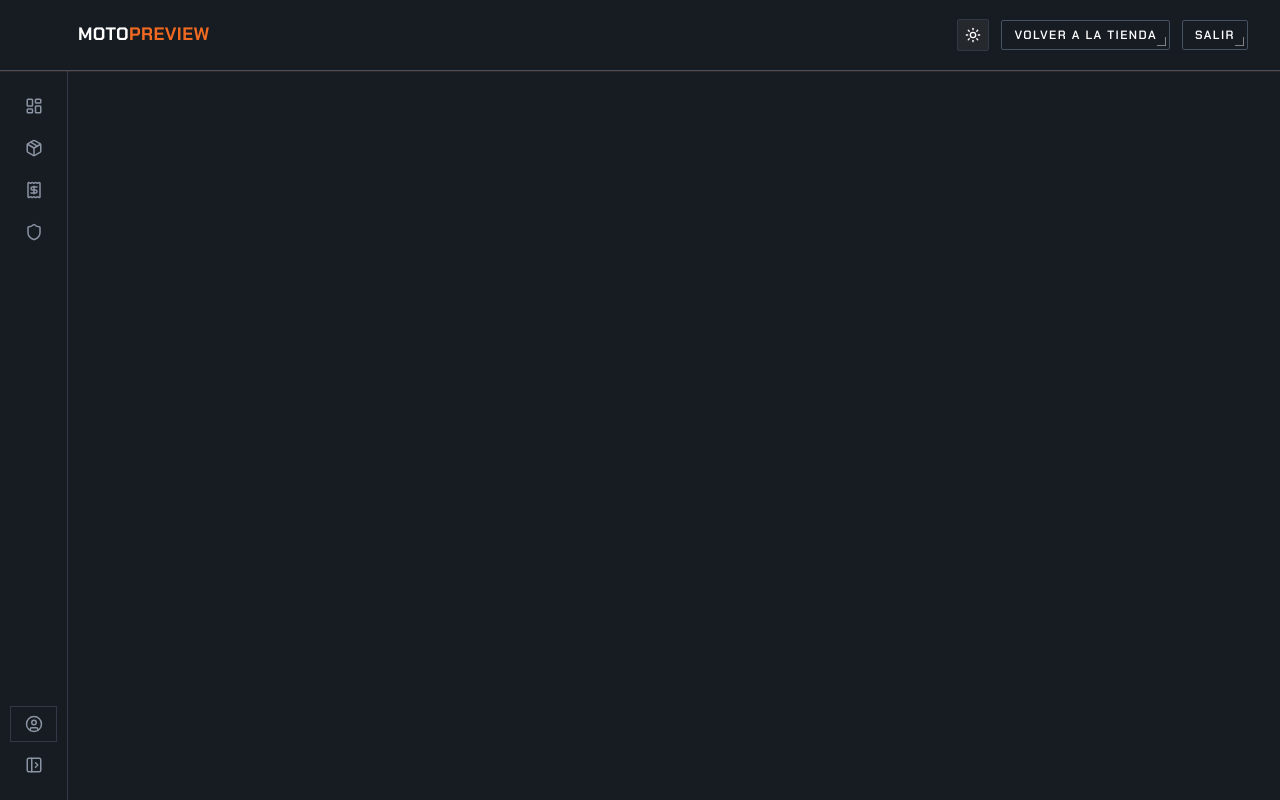
Test case: AdminLayout › agrupa Catálogo RBAC en Administración para Superadmin
The image size is (1280, 800).
Click the button named "Administración" at {"x": 34, "y": 232}, box [10, 213, 57, 251]
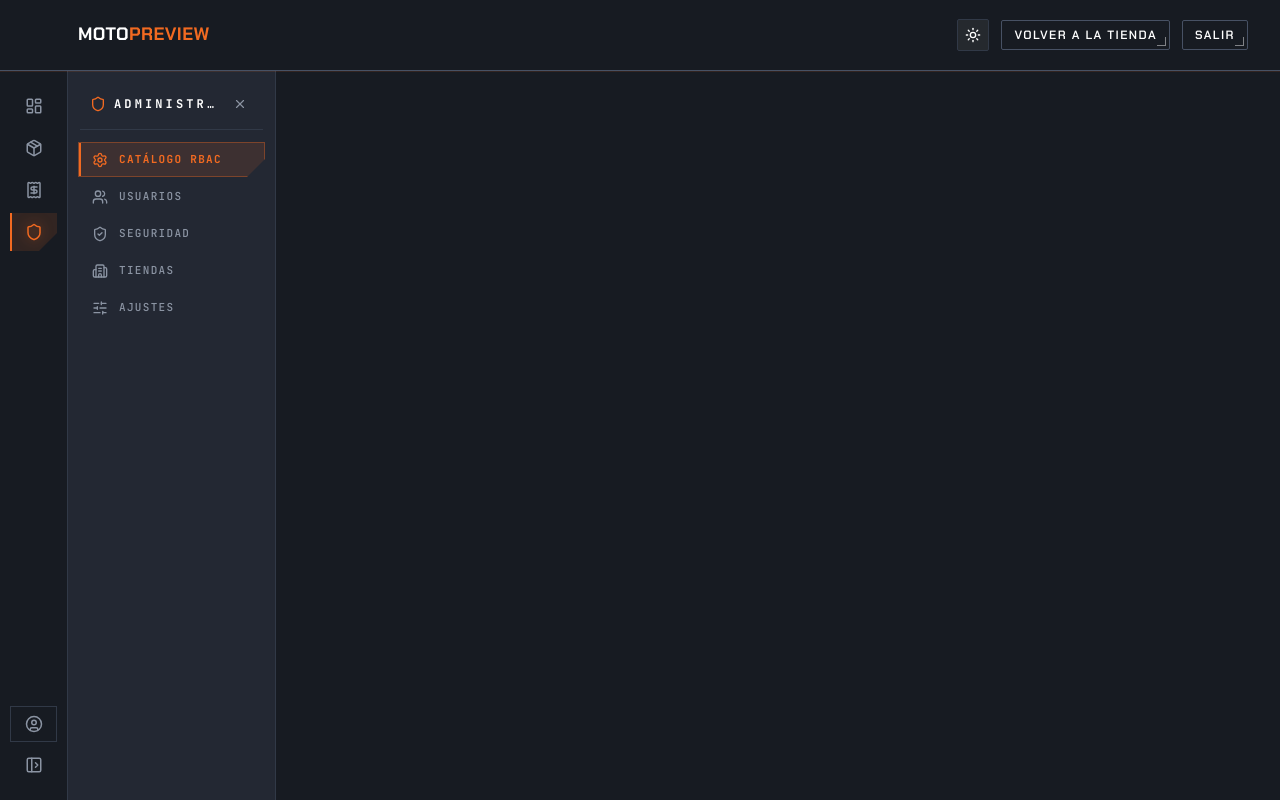
Click the button named "Catálogo" at {"x": 34, "y": 148}, box [10, 129, 57, 167]
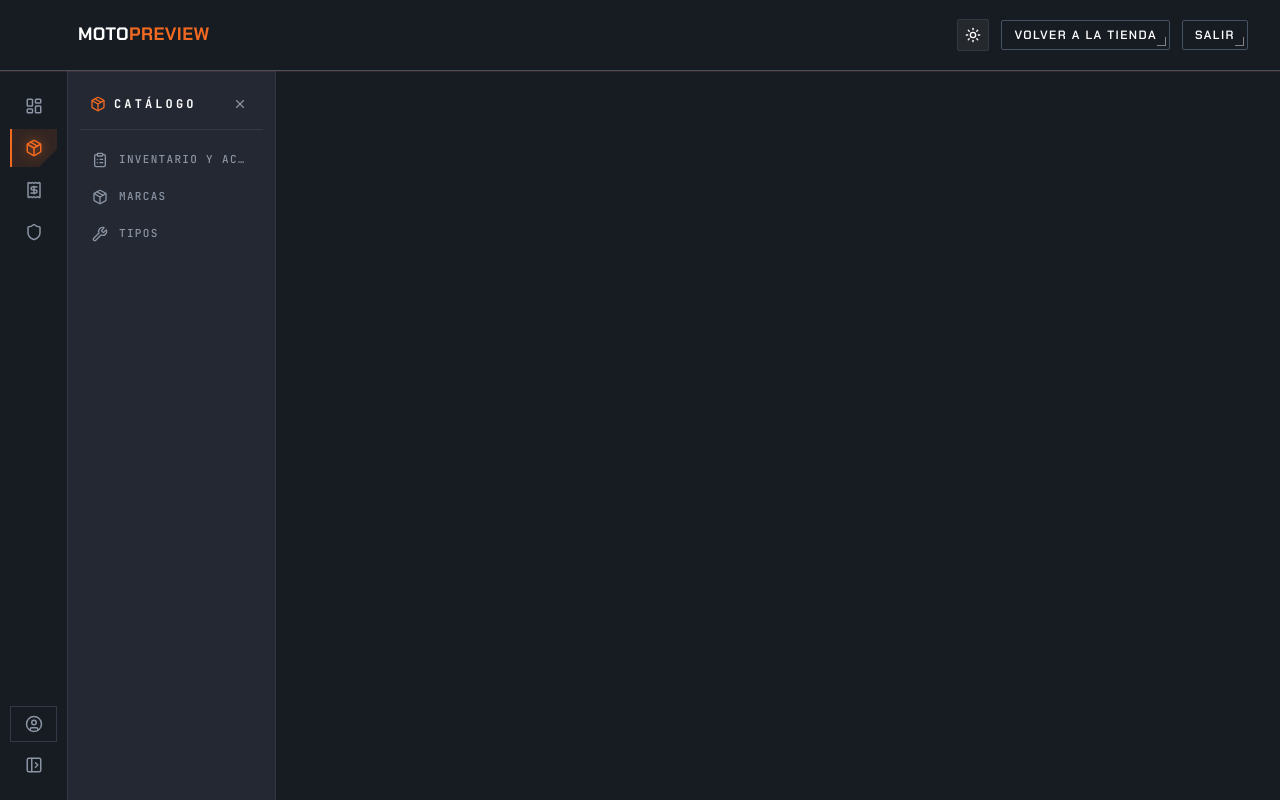
Expected: the link "Catálogo RBAC" is gone
